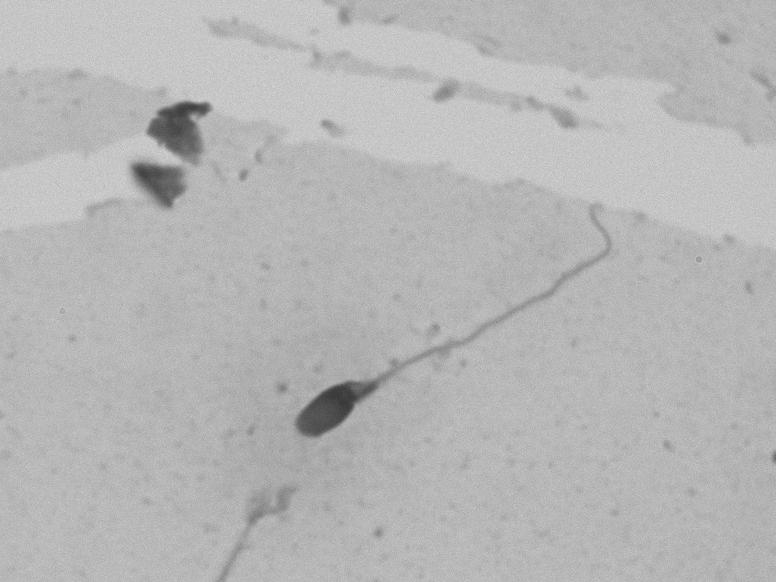Abnormal: (237, 185, 632, 456)
